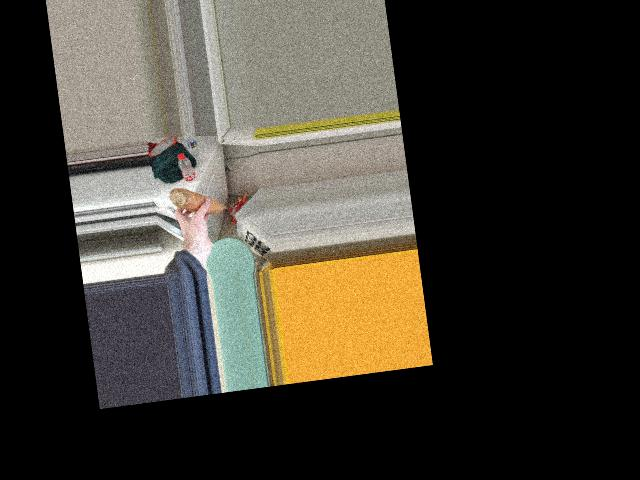sweet_potato: (171, 180, 223, 223)
